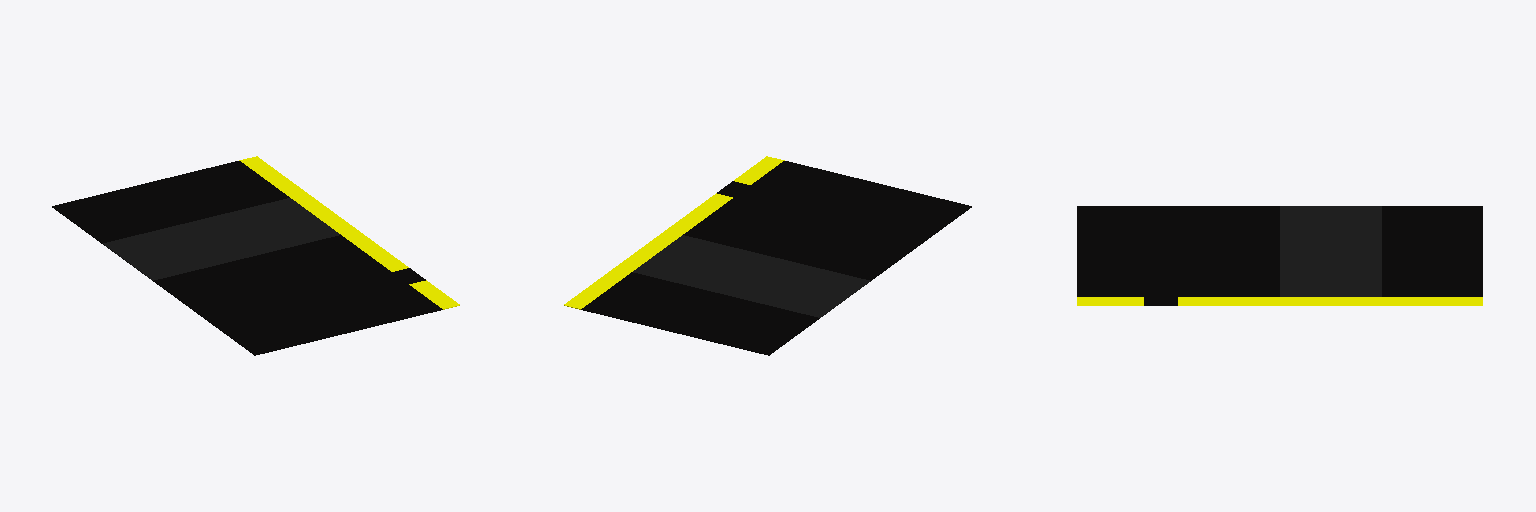
File: carpet_2.obj
The picture shows the model from 3 angles: view 1: azimuth 30°, elevation 25°; view 2: azimuth 150°, elevation 25°; view 3: azimuth 270°, elevation 25°; orthographic projection.
Visible parts, largest first — view 1: Cube.004_Material, Cube.004_Material.001, Cube.004_Material.003; view 2: Cube.004_Material, Cube.004_Material.001, Cube.004_Material.003; view 3: Cube.004_Material, Cube.004_Material.001, Cube.004_Material.003.
Boxes of the visible parts, x1,y1,x2,y2 form: Cube.004_Material: [52, 161, 442, 355]; Cube.004_Material.001: [103, 198, 340, 280]; Cube.004_Material.003: [239, 156, 459, 309]; Cube.004_Material: [581, 161, 971, 355]; Cube.004_Material.001: [633, 235, 870, 317]; Cube.004_Material.003: [564, 156, 784, 309]; Cube.004_Material: [1077, 206, 1482, 296]; Cube.004_Material.001: [1280, 206, 1381, 296]; Cube.004_Material.003: [1077, 297, 1482, 305].
Size of the model in its own units: 14 by 0.04 by 24.